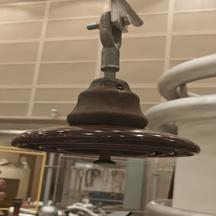insulator: (7, 70, 206, 176)
